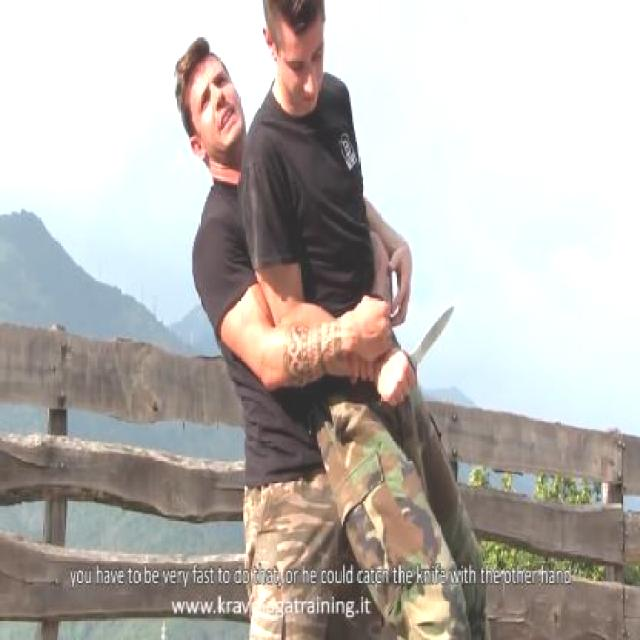knife: (374, 295, 458, 414)
